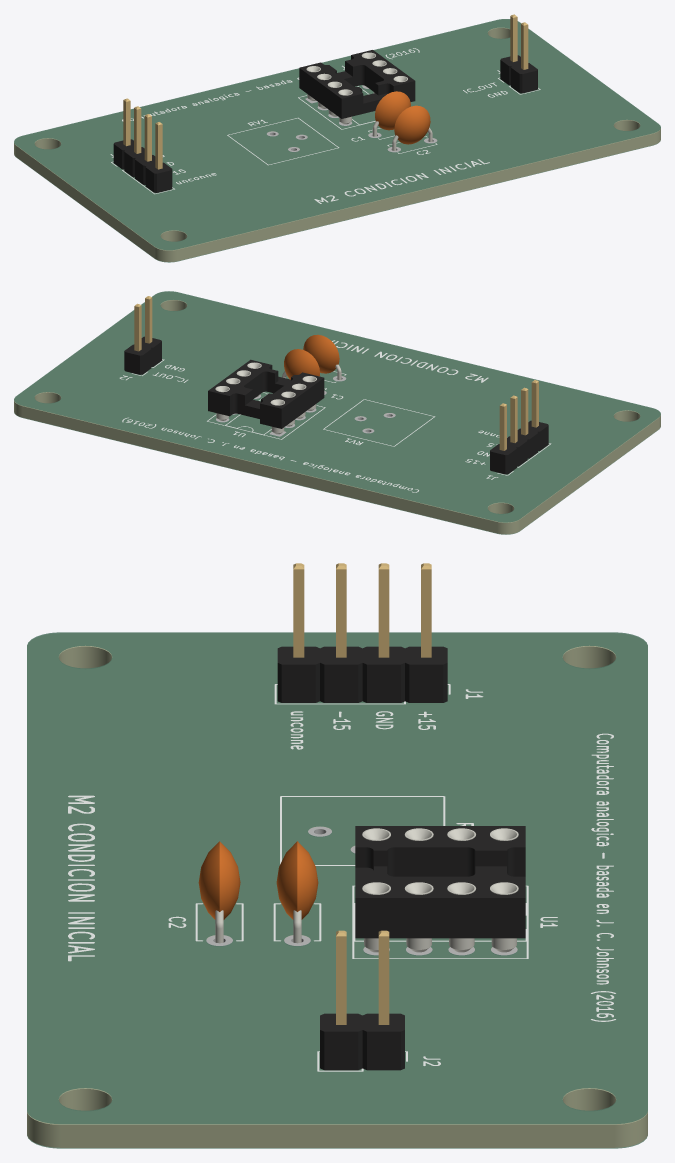
The model's file is placa.glb.
3 views of the same model, one above another, from view 1: azimuth 30°, elevation 25°; view 2: azimuth 150°, elevation 25°; view 3: azimuth 270°, elevation 25° (orthographic). The views are drawn at different scales.
Parts seen in each view (by area): view 1: =>[0:1:1:14], =>[0:1:1:12], =>[0:1:1:9], =>[0:1:1:3], =>[0:1:1:5] (×2), =>[0:1:1:11], =>[0:1:1:7], =>[0:1:1:13], =>[0:1:1:10]; view 2: =>[0:1:1:14], =>[0:1:1:12], =>[0:1:1:9], =>[0:1:1:3], =>[0:1:1:11], =>[0:1:1:5] (×2), =>[0:1:1:7], =>[0:1:1:13], =>[0:1:1:10]; view 3: =>[0:1:1:14], =>[0:1:1:12], =>[0:1:1:9], =>[0:1:1:3], =>[0:1:1:11], =>[0:1:1:7], =>[0:1:1:5] (×2), =>[0:1:1:10].
Part boxes in pixels (bbox=[...]): =>[0:1:1:14]: bbox=[14, 20, 660, 261]; =>[0:1:1:12]: bbox=[14, 19, 660, 250]; =>[0:1:1:9]: bbox=[299, 50, 415, 124]; =>[0:1:1:3]: bbox=[113, 98, 172, 192]; =>[0:1:1:5] (×2): bbox=[372, 91, 432, 150]; =>[0:1:1:11]: bbox=[110, 48, 540, 203]; =>[0:1:1:7]: bbox=[500, 14, 537, 93]; =>[0:1:1:13]: bbox=[15, 140, 660, 262]; =>[0:1:1:10]: bbox=[267, 85, 437, 152]; =>[0:1:1:14]: bbox=[14, 292, 660, 534]; =>[0:1:1:12]: bbox=[14, 291, 660, 522]; =>[0:1:1:9]: bbox=[208, 359, 324, 434]; =>[0:1:1:3]: bbox=[490, 380, 548, 474]; =>[0:1:1:11]: bbox=[119, 340, 551, 492]; =>[0:1:1:5] (×2): bbox=[282, 334, 341, 379]; =>[0:1:1:7]: bbox=[124, 296, 161, 374]; =>[0:1:1:13]: bbox=[14, 412, 660, 534]; =>[0:1:1:10]: bbox=[216, 376, 395, 436]; =>[0:1:1:14]: bbox=[27, 633, 647, 1147]; =>[0:1:1:12]: bbox=[27, 632, 647, 1124]; =>[0:1:1:9]: bbox=[355, 826, 525, 952]; =>[0:1:1:3]: bbox=[277, 563, 447, 702]; =>[0:1:1:11]: bbox=[68, 684, 615, 1071]; =>[0:1:1:7]: bbox=[320, 930, 404, 1070]; =>[0:1:1:5] (×2): bbox=[198, 841, 318, 943]; =>[0:1:1:10]: bbox=[206, 826, 517, 955].
Bounding box in the file's own units: 0.0695 × 0.0123 × 0.0371.
